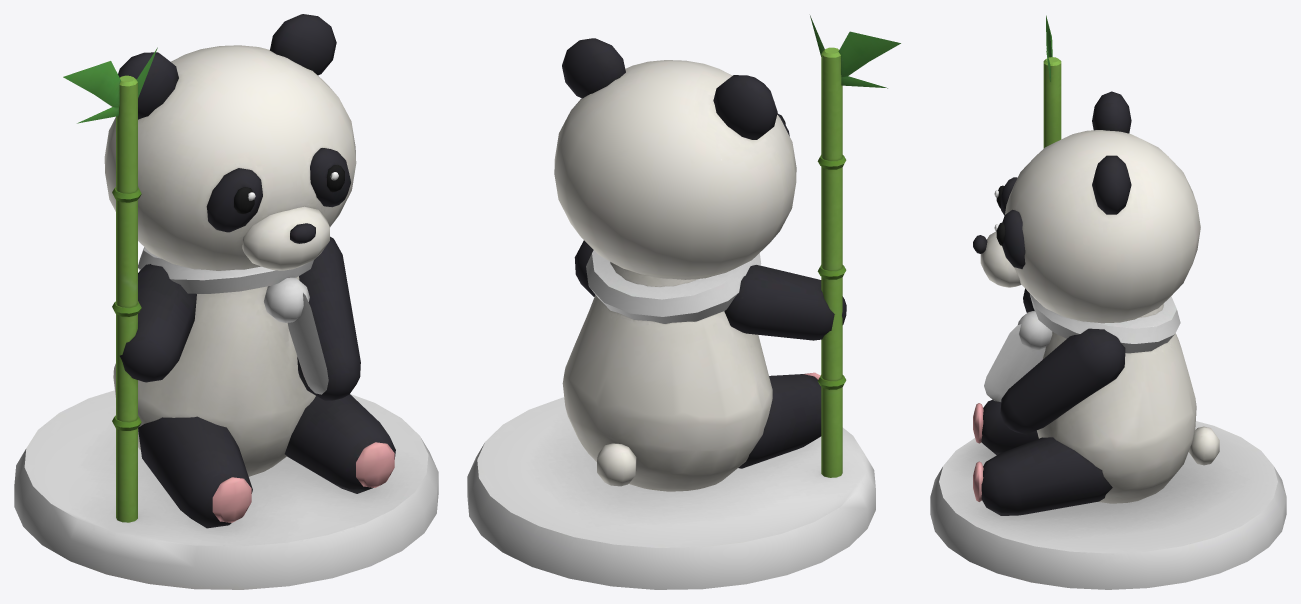
File: panda.glb
The picture shows the model from 3 angles, left to right: view 1: azimuth 30°, elevation 25°; view 2: azimuth 150°, elevation 25°; view 3: azimuth 270°, elevation 25°; orthographic projection. The views are drawn at different scales.
Parts seen in each view (by area): view 1: TeamColor_Base, Head, Body, BambooPole, Leg_R, TeamColor_Scarf, Leg_L, Arm_L, Arm_R, Muzzle, Ear_L, EyePatch_R (+6 smaller); view 2: TeamColor_Base, Head, Body, BambooPole, Arm_R, TeamColor_Scarf, Leg_R, Ear_R, Ear_L, BambooLeaves, Tail, BambooNodes (+1 smaller); view 3: TeamColor_Base, Head, Body, Leg_L, Arm_L, TeamColor_Scarf, Ear_L, BambooPole, Leg_R, Ear_R, Muzzle, EyePatch_L (+1 smaller).
Part boxes in pixels (left/top/right/bottom): TeamColor_Base: left=14, top=390, right=438, bottom=589; Head: left=104, top=45, right=356, bottom=270; Body: left=113, top=276, right=315, bottom=476; BambooPole: left=116, top=75, right=137, bottom=522; Leg_R: left=138, top=416, right=252, bottom=528; TeamColor_Scarf: left=138, top=247, right=328, bottom=394; Leg_L: left=284, top=394, right=395, bottom=493; Arm_L: left=297, top=236, right=360, bottom=400; Arm_R: left=120, top=264, right=196, bottom=382; Muzzle: left=242, top=206, right=329, bottom=270; Ear_L: left=270, top=14, right=336, bottom=75; EyePatch_R: left=206, top=168, right=262, bottom=232; TeamColor_Base: left=467, top=397, right=875, bottom=589; Head: left=554, top=60, right=796, bottom=279; Body: left=562, top=262, right=772, bottom=491; BambooPole: left=821, top=47, right=842, bottom=477; Arm_R: left=724, top=265, right=846, bottom=340; TeamColor_Scarf: left=586, top=250, right=761, bottom=323; Leg_R: left=738, top=374, right=821, bottom=468; Ear_R: left=713, top=75, right=777, bottom=139; Ear_L: left=562, top=38, right=625, bottom=98; BambooLeaves: left=810, top=15, right=900, bottom=88; Tail: left=597, top=443, right=636, bottom=486; BambooNodes: left=817, top=155, right=846, bottom=389; TeamColor_Base: left=930, top=421, right=1286, bottom=589; Head: left=1005, top=130, right=1200, bottom=323; Body: left=1037, top=304, right=1196, bottom=503; Leg_L: left=981, top=437, right=1112, bottom=515; Arm_L: left=1000, top=328, right=1125, bottom=434; TeamColor_Scarf: left=984, top=294, right=1180, bottom=401; Ear_L: left=1092, top=155, right=1131, bottom=214; BambooPole: left=1043, top=57, right=1061, bottom=148; Leg_R: left=981, top=400, right=1038, bottom=455; Ear_R: left=1092, top=91, right=1131, bottom=133; Muzzle: left=980, top=231, right=1021, bottom=287; EyePatch_L: left=1002, top=209, right=1025, bottom=268.
Bounding box in the file's own units: 0.0565 × 0.071 × 0.054.
1 material, 1 textured.
